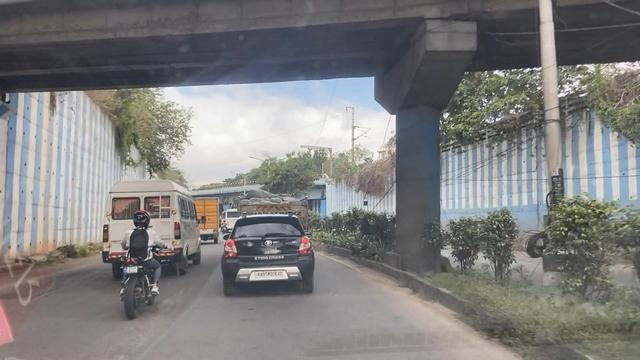HMV: (106, 182, 202, 272)
LMV: (222, 221, 311, 295), (125, 215, 167, 324)
